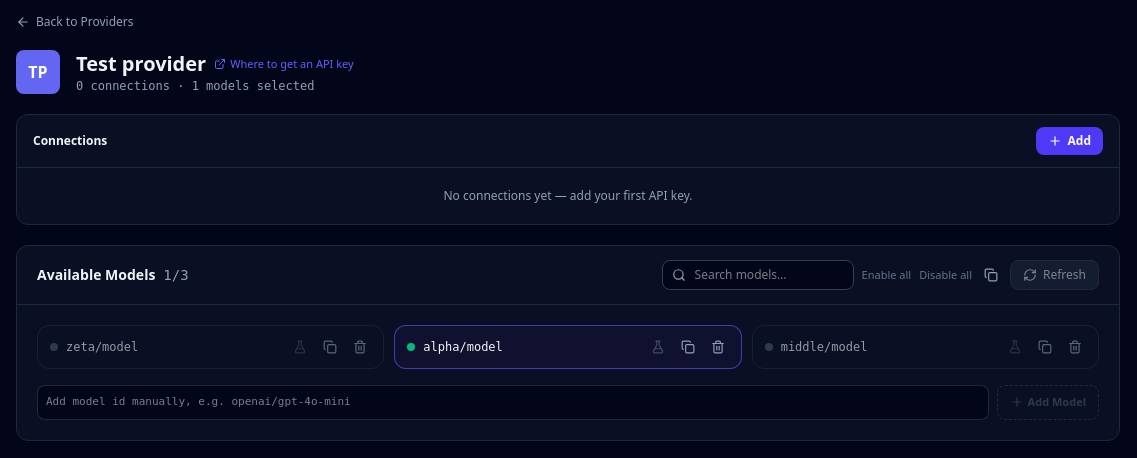
ProviderDetailPage: copy enabled model IDs › clears old success feedback and handles a rejected clipboard write
Click the button named "Copy enabled IDs": click(991, 275) [980,264,1002,286]
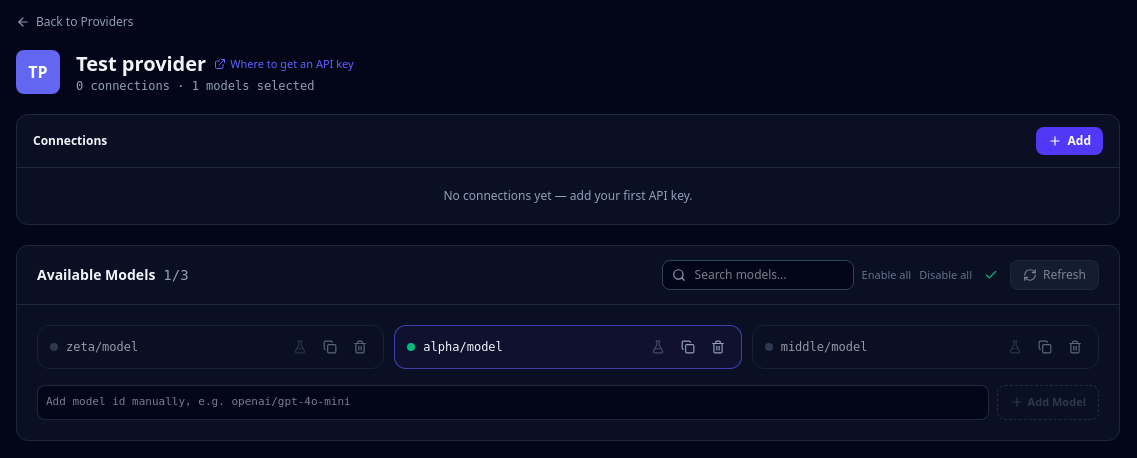
Click the button named "IDs copied!": click(991, 275) [980,264,1002,286]
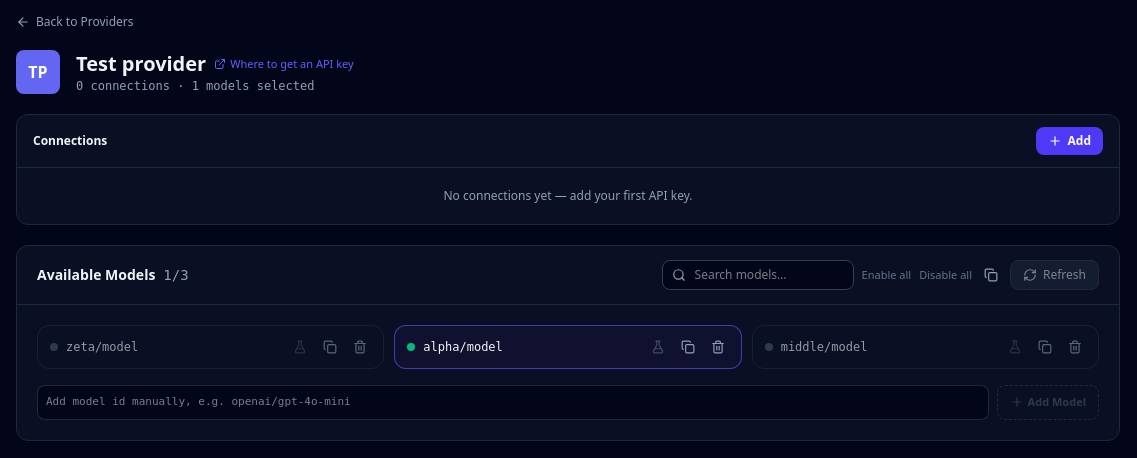
Now the 1st icon with class "lucide-copy" is shown, box [984,268,998,282]
